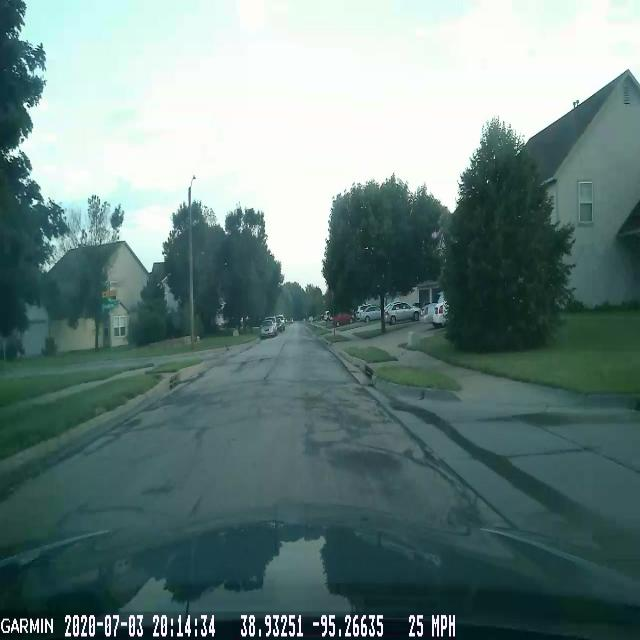Pothole: (441, 501, 496, 538)
